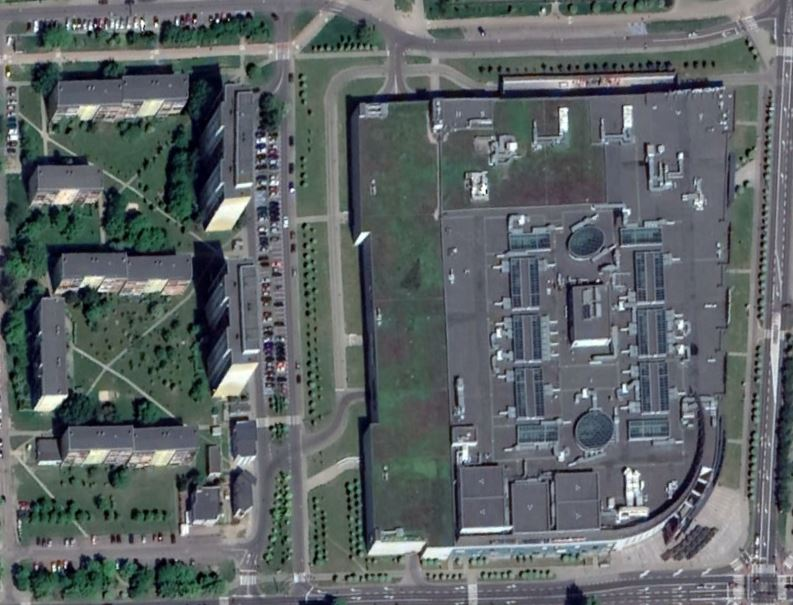block of flats: (191, 78, 264, 237), (48, 68, 197, 126), (204, 256, 263, 401), (39, 424, 199, 471), (50, 251, 198, 295), (29, 292, 72, 414), (25, 161, 111, 209), (185, 483, 226, 530), (230, 466, 262, 523), (230, 418, 264, 468)
shopping_center: (338, 79, 747, 569)
